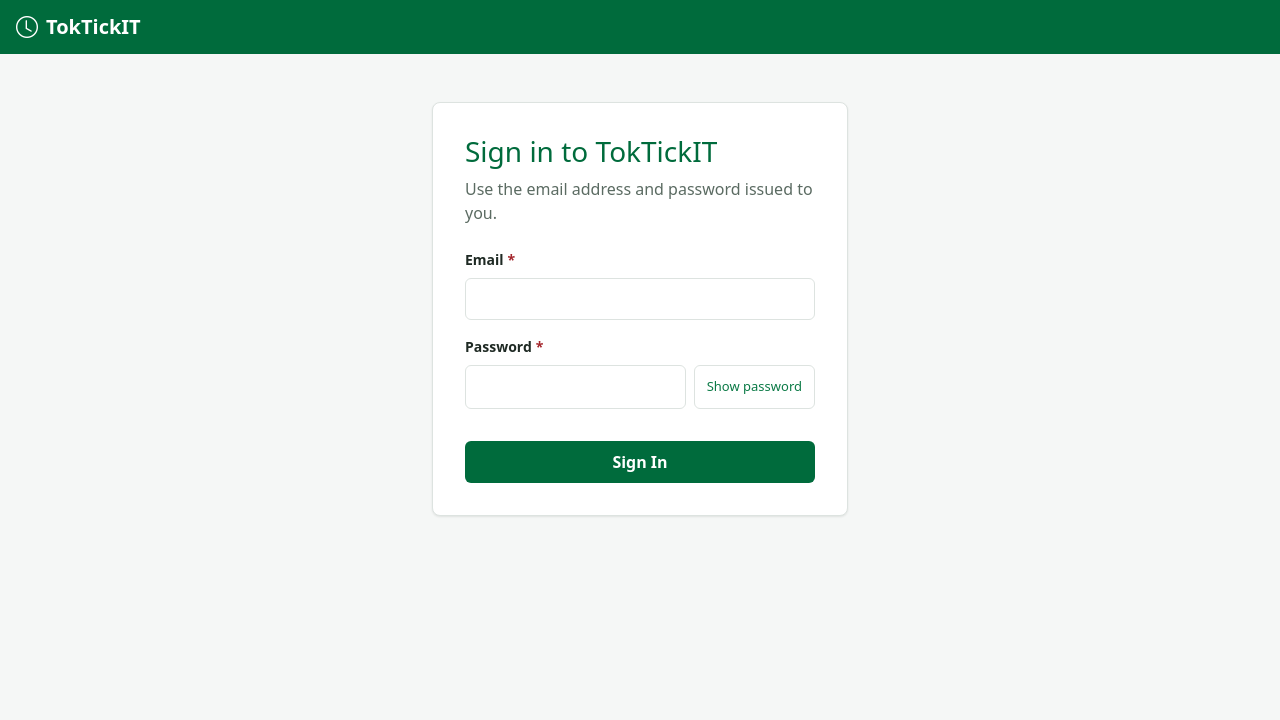
Test: UI-03 refused credentials › shows one message and singles out neither field
This screenshot has width=1280, height=720.
Step 1. Type "jennifer.anderson@example.ac.th" into the field labelled "Email*" → (640, 299), box [465, 278, 815, 320]
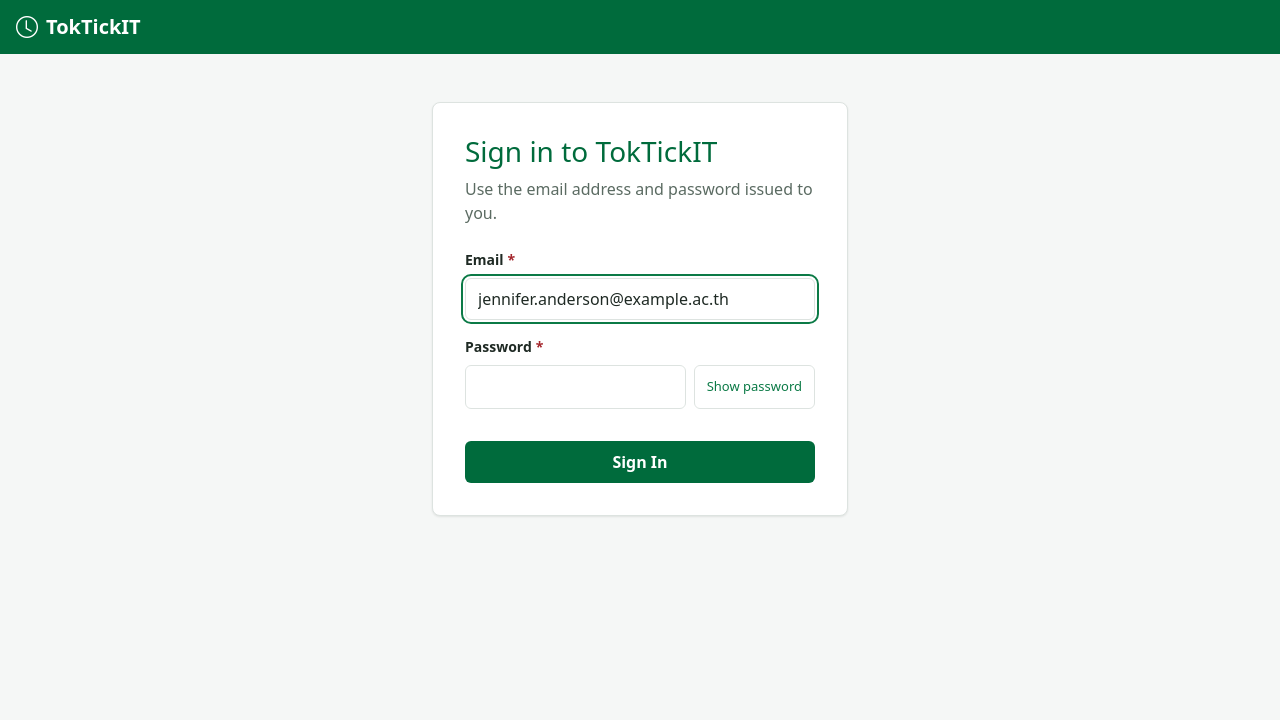
Step 2. Type "Wrong1!wrong" into the password field labelled "Password*" → (575, 387), box [465, 365, 686, 409]
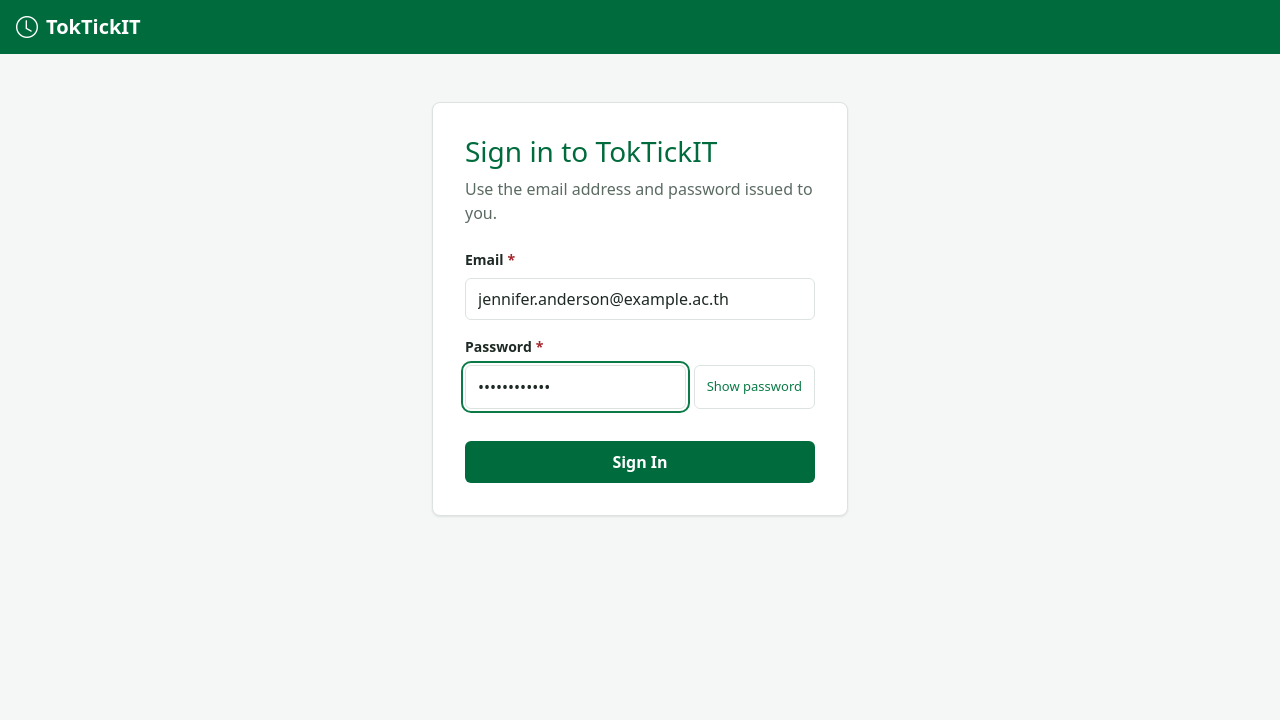
Step 3. Click the button "Sign In" → (640, 462), box [465, 441, 815, 483]
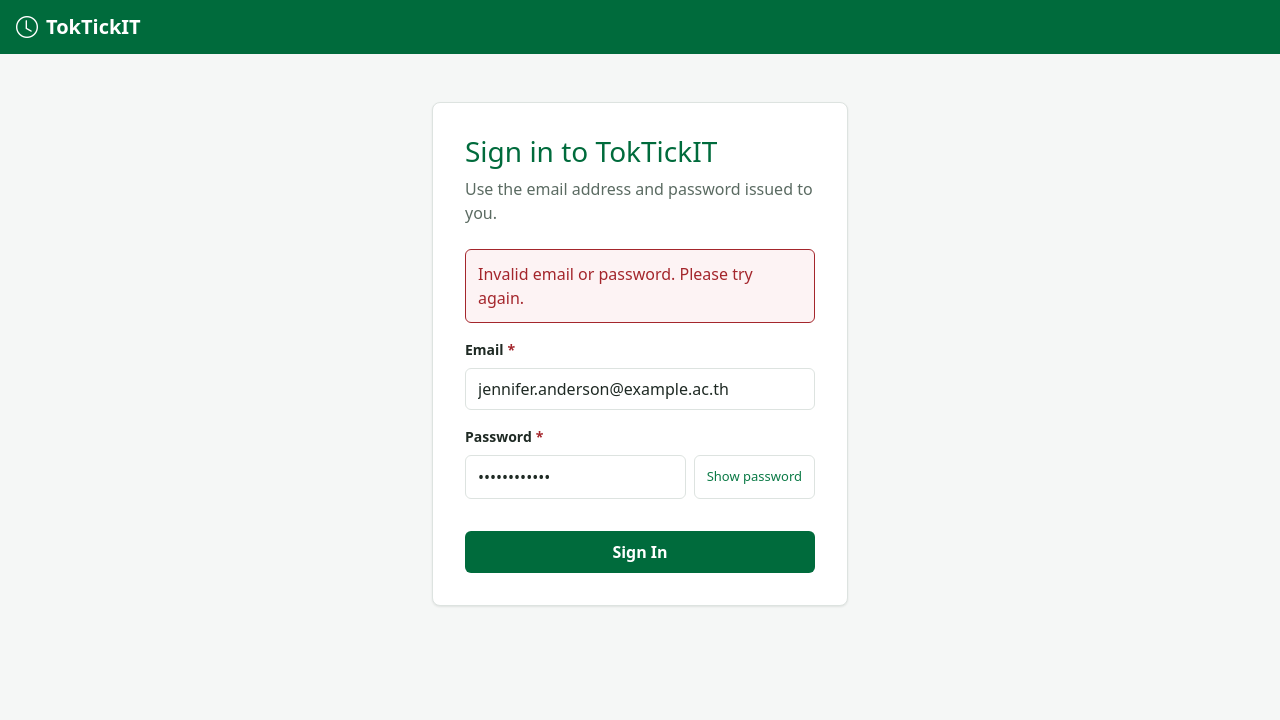
Expected: the number of messages is 1, [465, 249, 815, 323]
